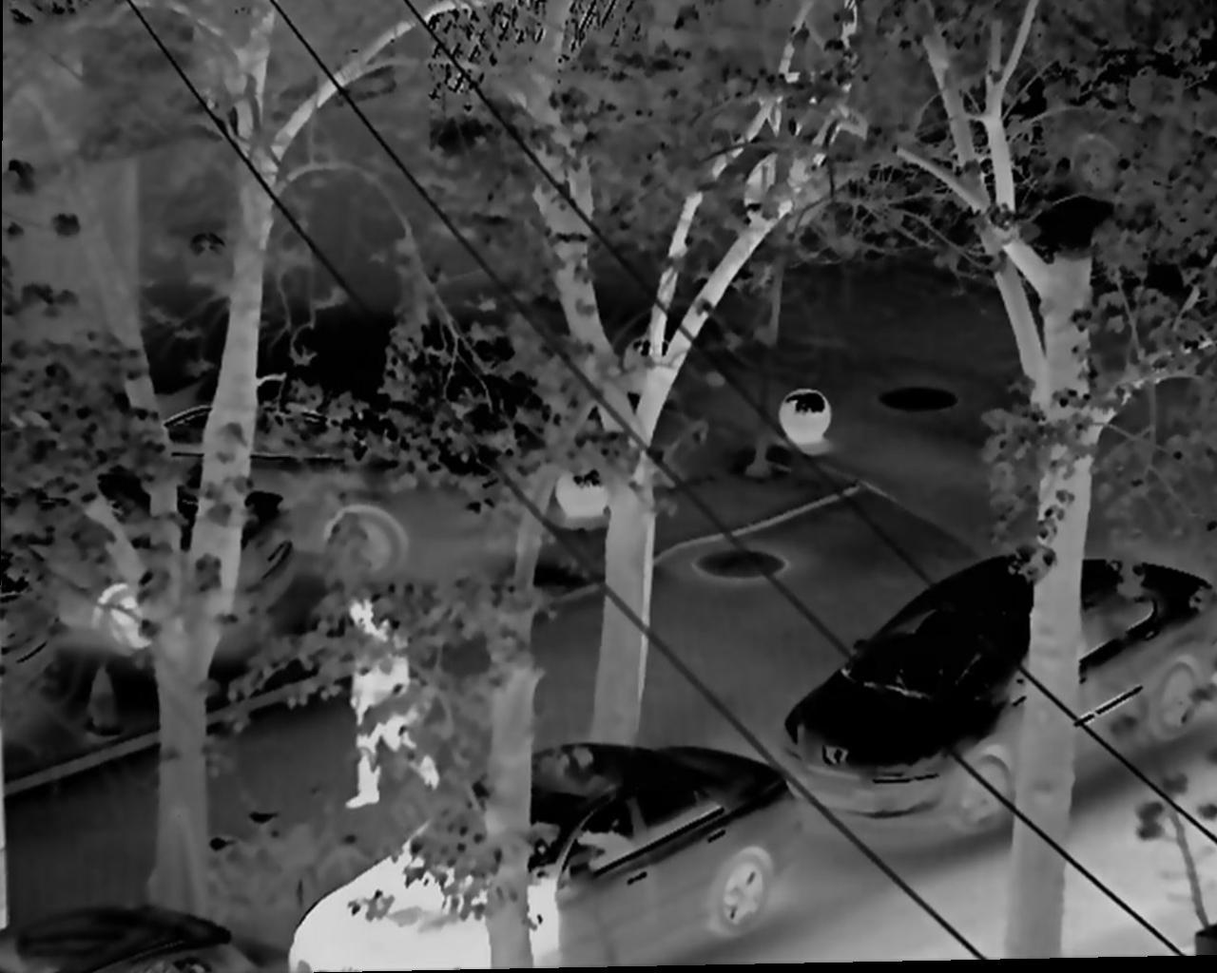person: (321, 593, 445, 819)
